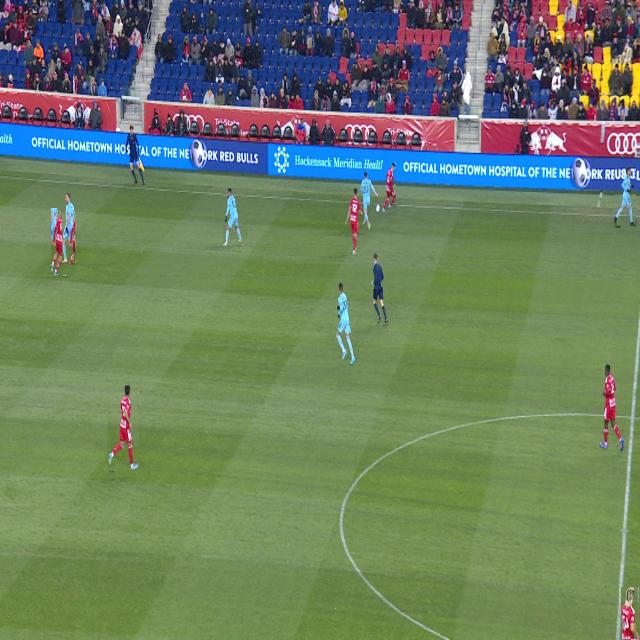football: (375, 204, 381, 213)
player: (108, 386, 139, 470), (600, 365, 624, 451), (336, 283, 356, 364), (51, 209, 70, 275), (615, 168, 636, 226), (345, 188, 363, 255), (360, 172, 378, 230), (224, 189, 242, 246), (622, 587, 639, 640), (63, 193, 75, 263), (382, 164, 396, 214), (65, 242, 67, 249)
referee: (372, 253, 388, 326)
